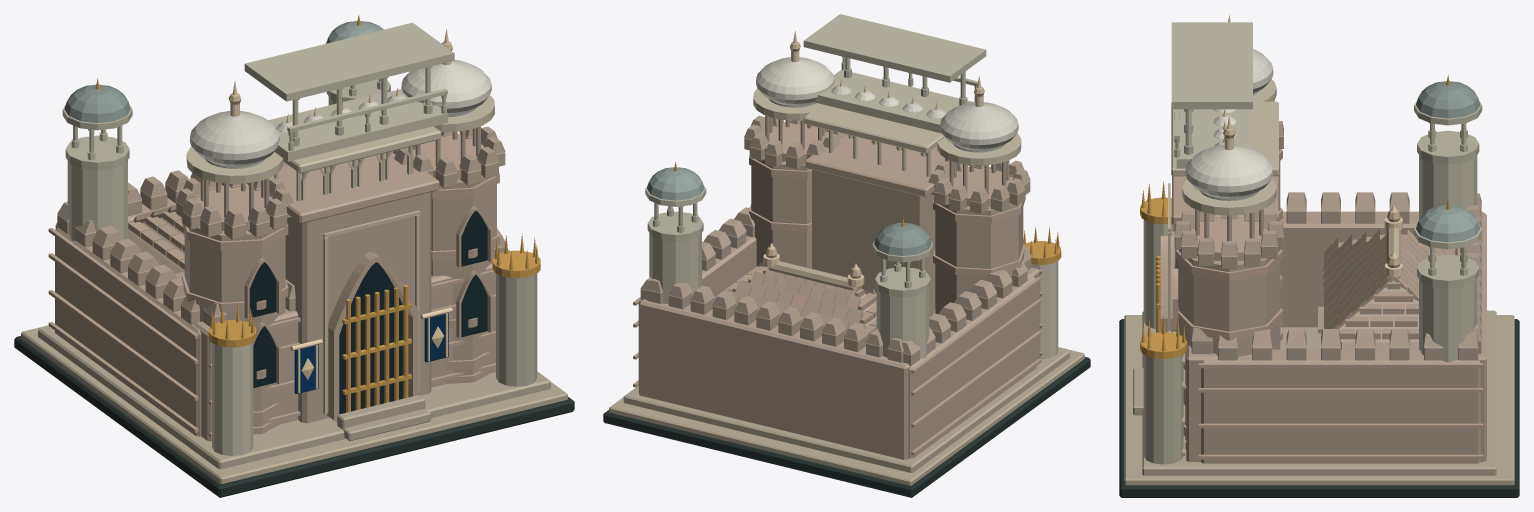
The picture shows the model from 3 angles, left to right: view 1: azimuth 30°, elevation 25°; view 2: azimuth 150°, elevation 25°; view 3: azimuth 270°, elevation 25°; orthographic projection. The views are drawn at different scales.
Parts seen in each view (by area): view 1: barracks_L5_0, barracks_L5_1; view 2: barracks_L5_0, barracks_L5_1; view 3: barracks_L5_0, barracks_L5_1.
Part boxes in pixels (x1=…): barracks_L5_0: x1=14, y1=21, x2=574, y2=497; barracks_L5_1: x1=95, y1=14, x2=540, y2=412; barracks_L5_0: x1=603, y1=14, x2=1090, y2=497; barracks_L5_1: x1=674, y1=31, x2=1061, y2=286; barracks_L5_0: x1=1119, y1=22, x2=1519, y2=497; barracks_L5_1: x1=1140, y1=14, x2=1449, y2=359.
Bounding box in the file's own units: 5.6 × 5.43 × 5.6.
